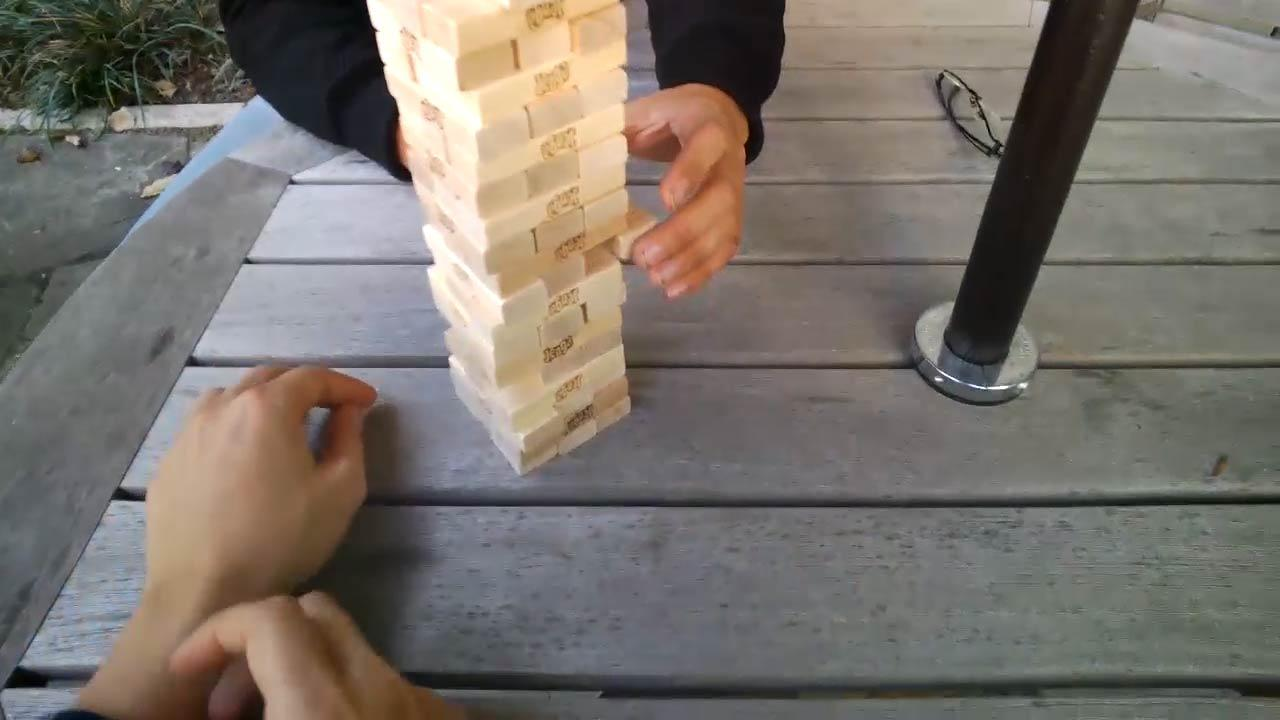hand: (139, 363, 368, 580), (172, 585, 466, 720), (624, 83, 750, 300)
